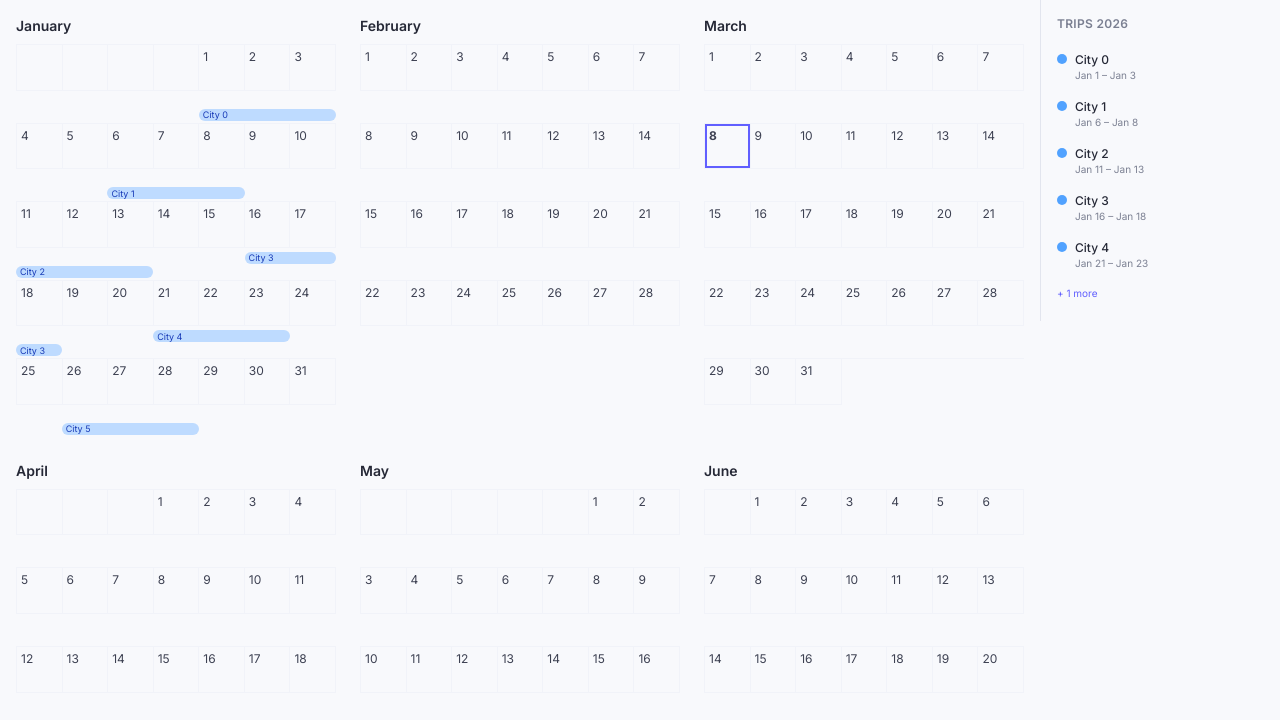
Test case: YearView trip inventory panel › expands trips section when "+ N more" is clicked
Click the button "+ 1 more": x=1160, y=294 [1057,282,1264,305]
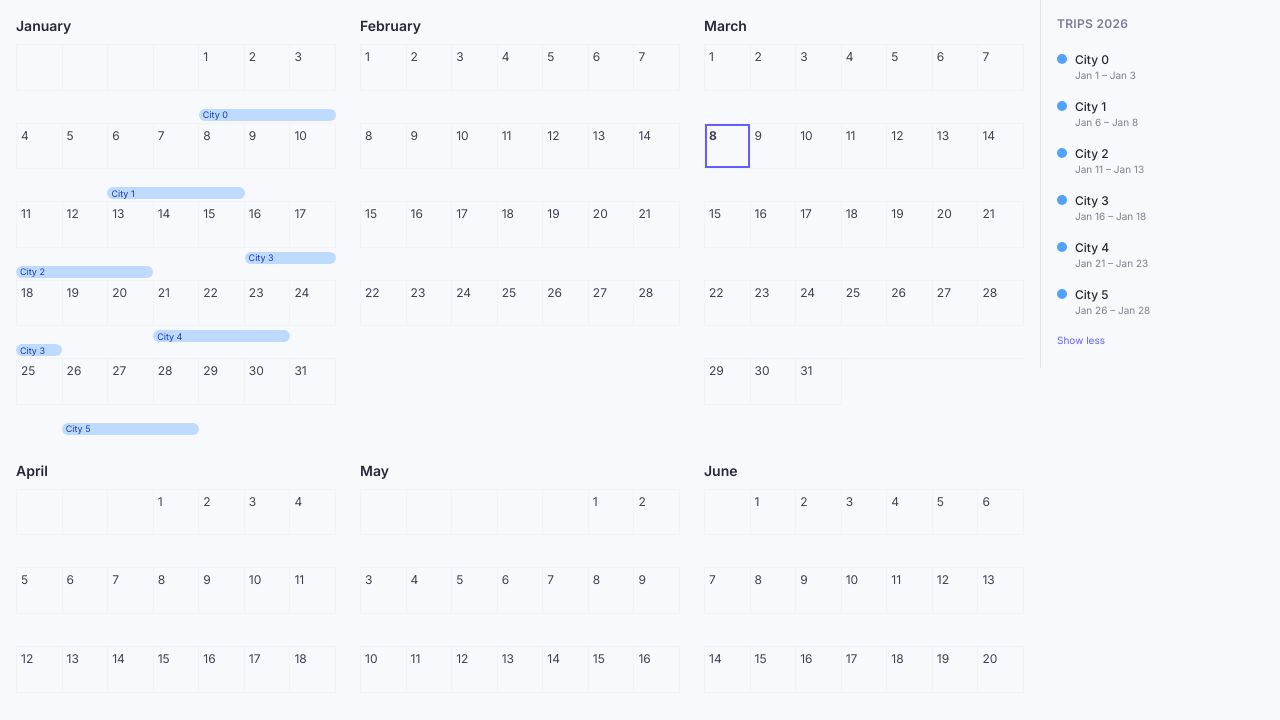
Now the button "+ 1 more" is gone
